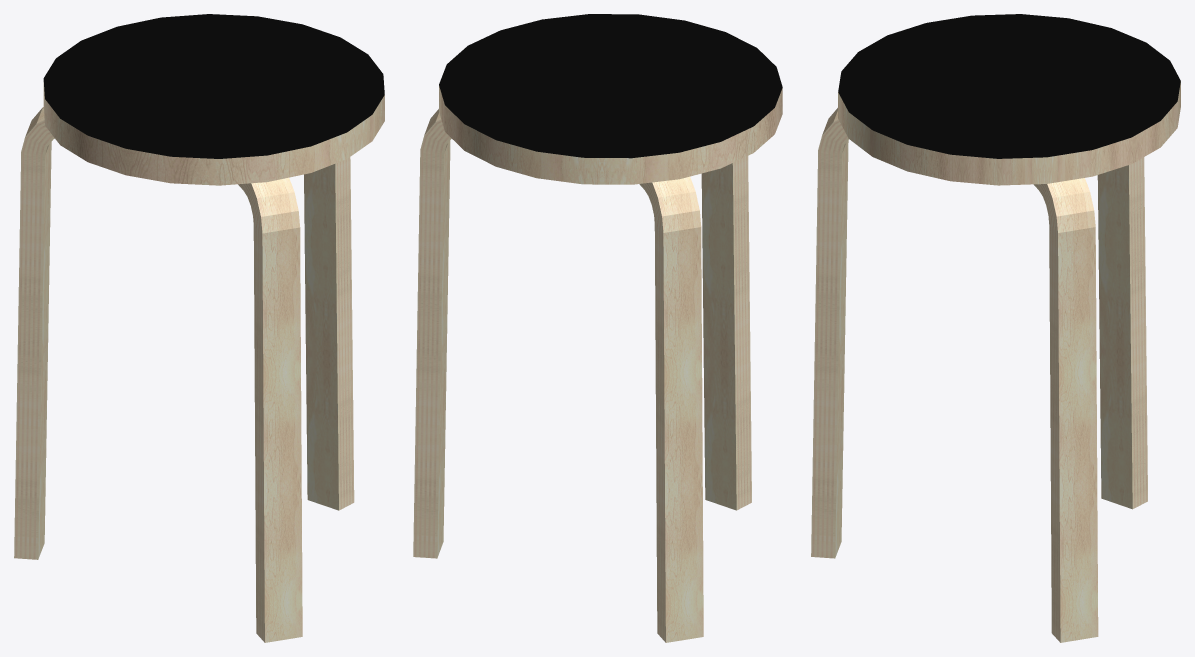
The model's file is AlvarAalto60.FBX.
The picture shows the model from 3 angles, left to right: view 1: azimuth 30°, elevation 25°; view 2: azimuth 150°, elevation 25°; view 3: azimuth 270°, elevation 25°; orthographic projection.
Visible parts, largest first — view 1: AlvarAalto60 (×4); view 2: AlvarAalto60 (×4); view 3: AlvarAalto60 (×4).
Boxes of the visible parts, bbox=[...] form: AlvarAalto60 (×4): bbox=[14, 14, 384, 642]; AlvarAalto60 (×4): bbox=[413, 14, 782, 642]; AlvarAalto60 (×4): bbox=[811, 14, 1180, 642].
Size of the model in its own units: 356 by 515 by 363.
3 materials, 2 textured.
